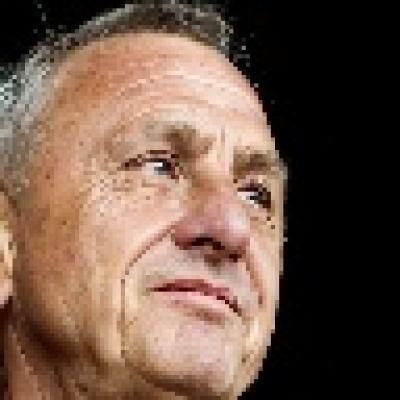sad: (36, 57, 279, 384)
